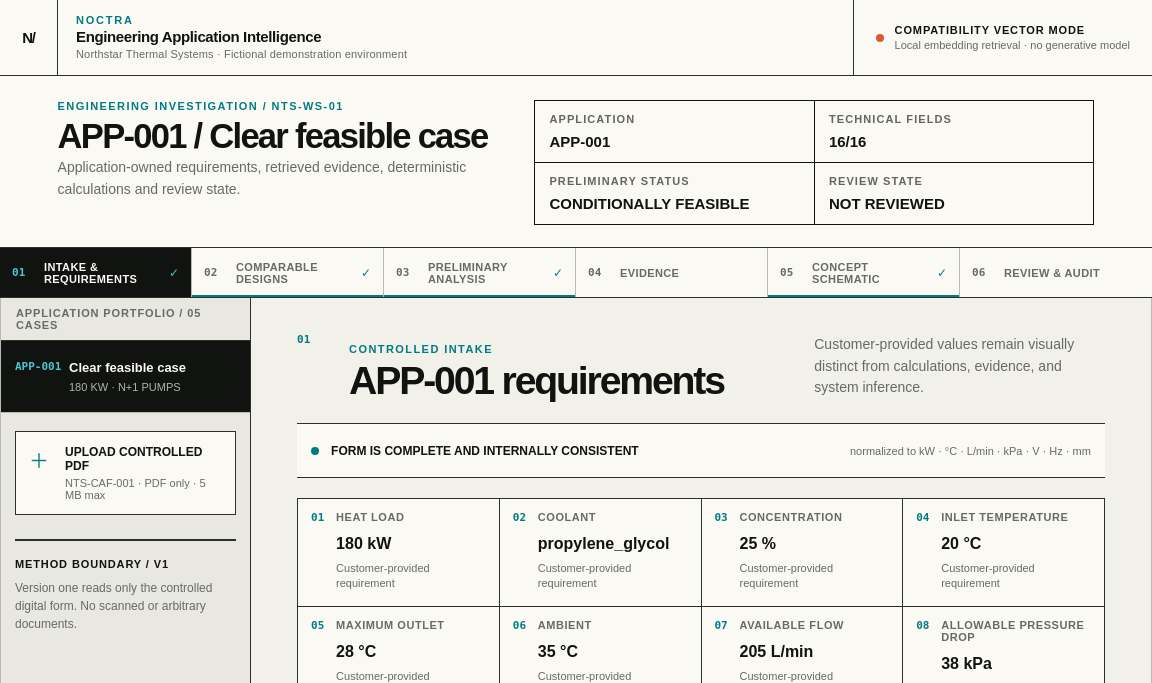
Scenario: workspace › renders preliminary assessment
Expected: the heading "APP-001 requirements" is shown, [349,359,724,402]
Click the button "03 Preliminary analysis ✓". click: point(480, 272)
box: [384,248,576,297]
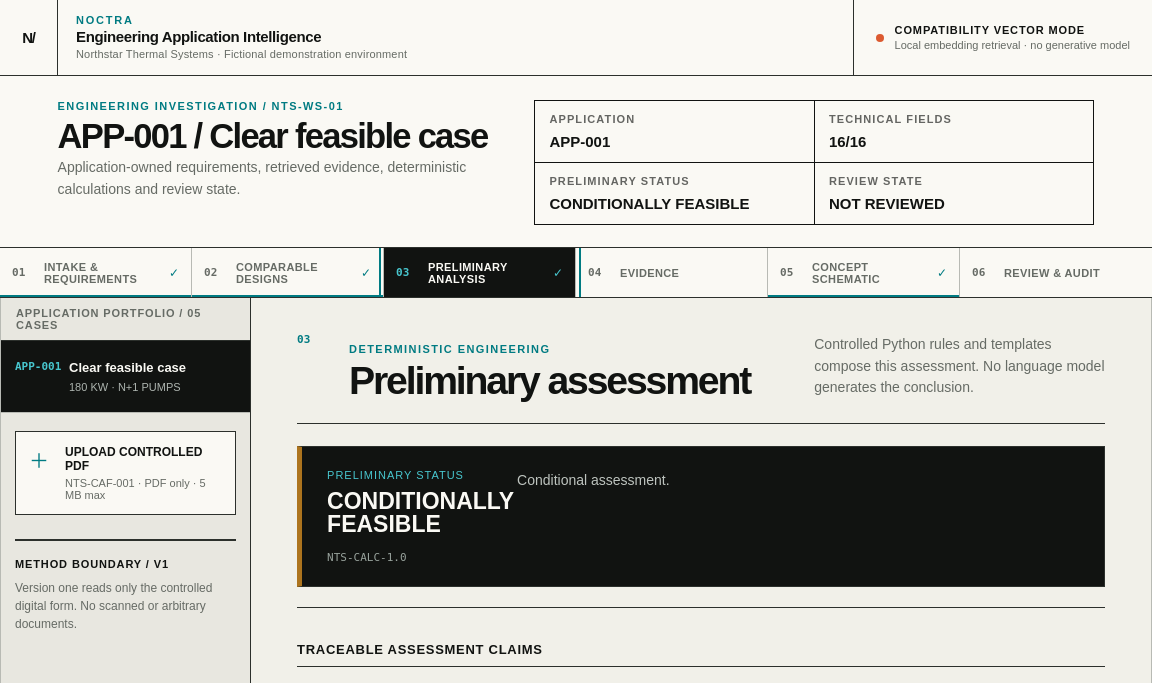
Result: the text "Conditional assessment." is shown at [517,472,670,488]
